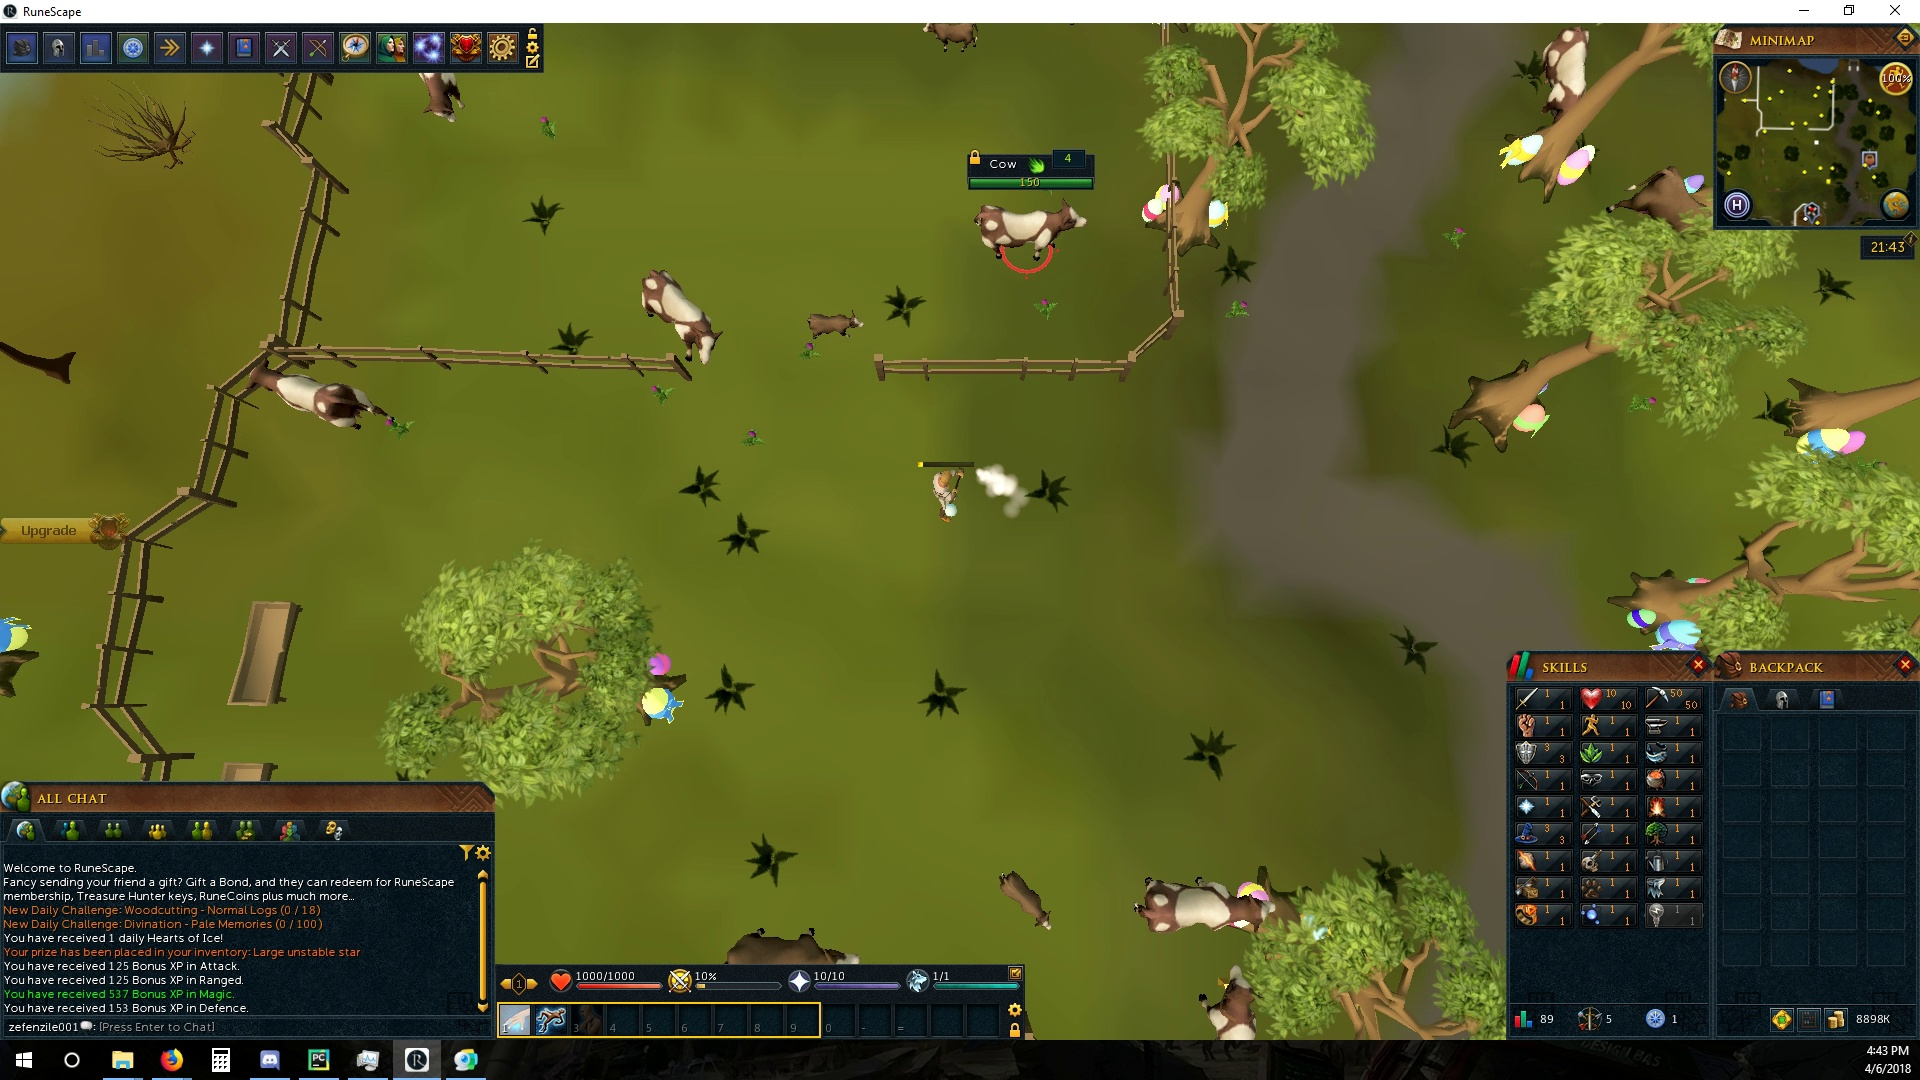calf: (996, 869, 1055, 932), (916, 22, 982, 55), (803, 309, 868, 342)
cow: (243, 363, 397, 433), (640, 265, 727, 368), (1131, 876, 1279, 934), (971, 196, 1089, 268), (1606, 164, 1712, 240), (713, 924, 868, 964), (1534, 26, 1594, 121), (1191, 968, 1259, 1039)
